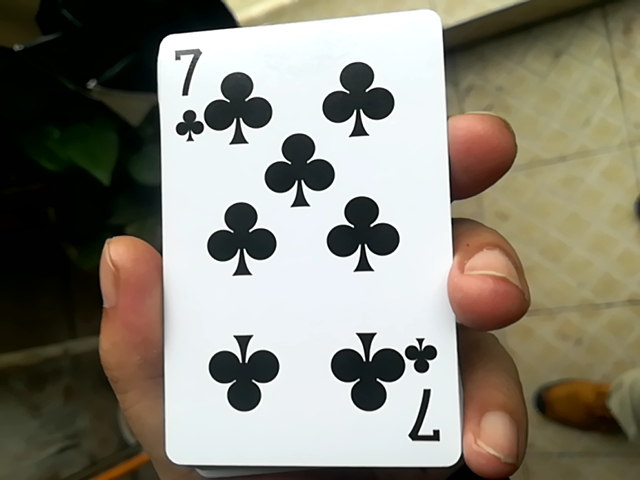mh 7: (141, 13, 463, 478)
